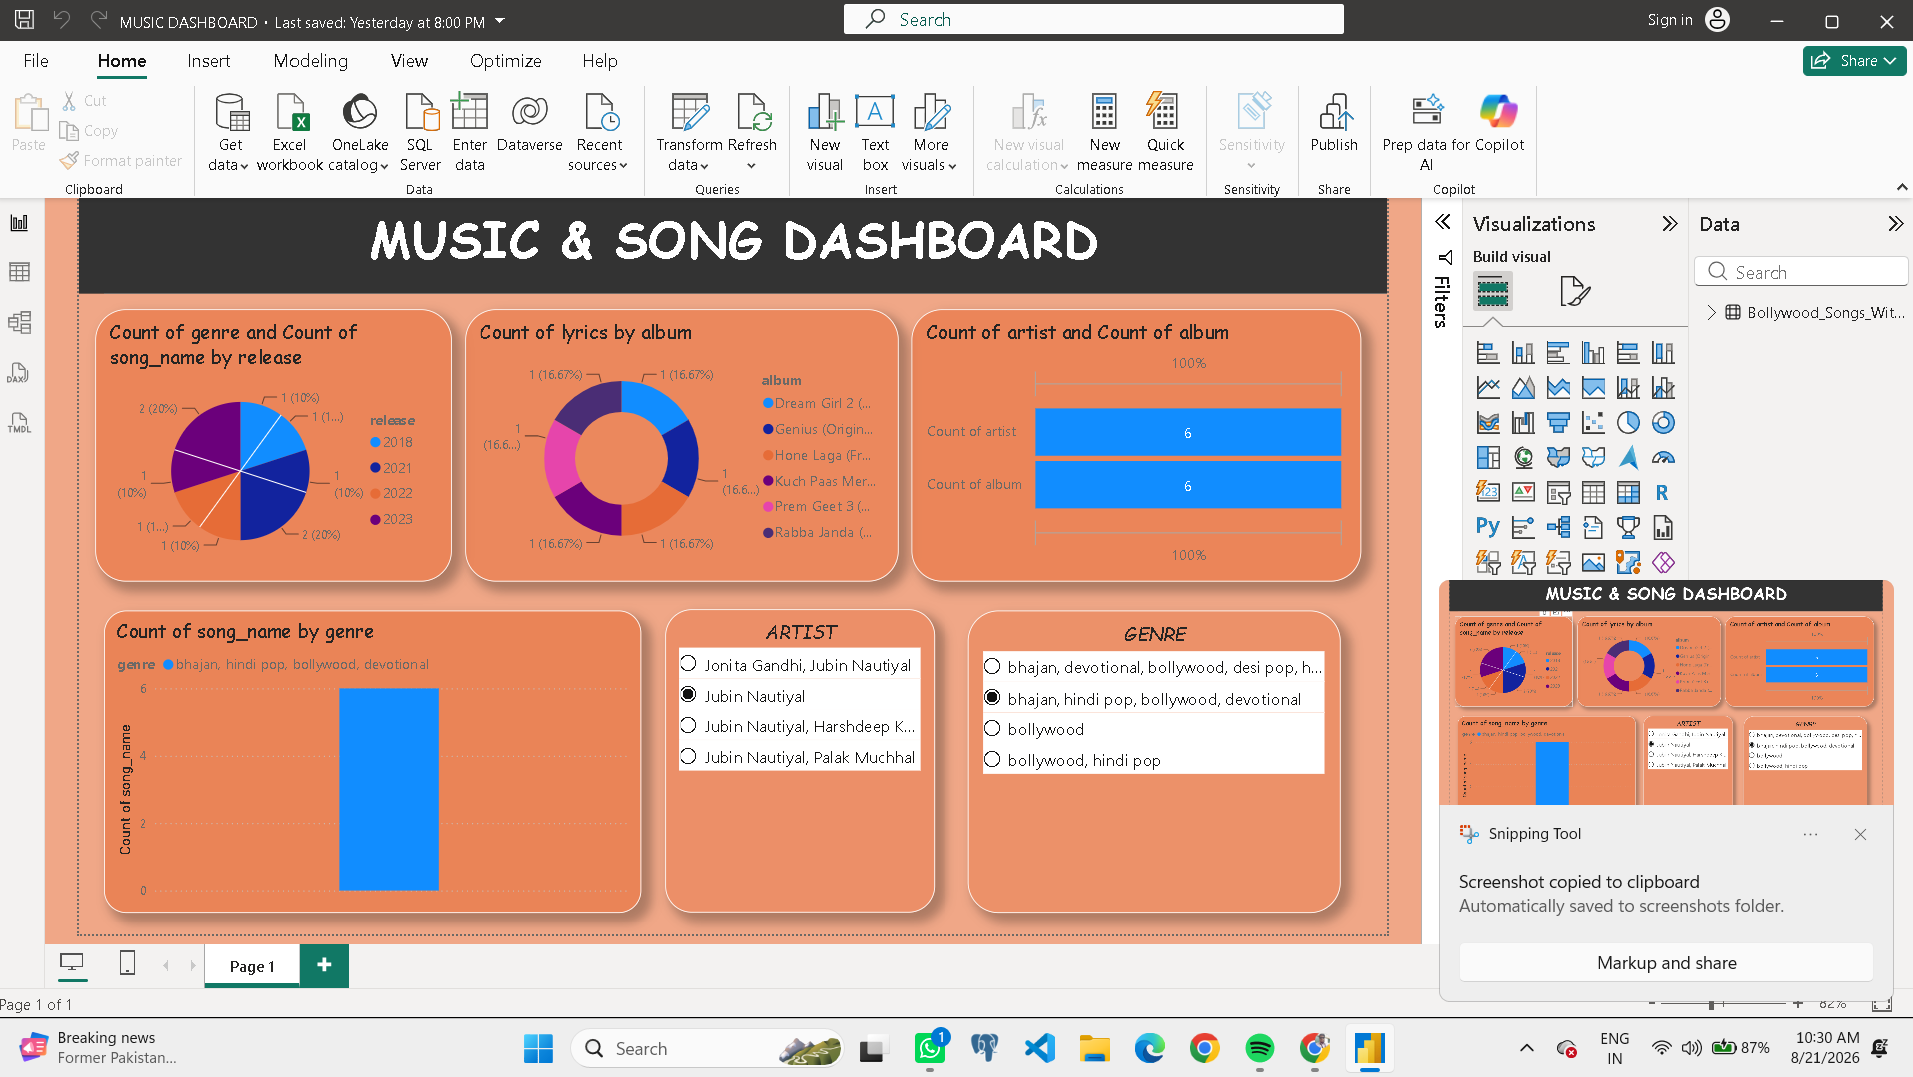

The dashboard page shown, as its layout file describes it:
{"tool":"powerbi","page":{"name":"Page 1","canvas":[1280,720],"ordinal":0},"visuals":[{"type":"pieChart","fields":{"Y":["Count(Bollywood_Songs_With_Album_Genre.genre)","CountNonNull(Bollywood_Songs_With_Album_Genre.song_name)"],"Category":["Bollywood_Songs_With_Album_Genre.release"]},"box":[15.9,108.8,348.5,266.6],"z":0},{"type":"textbox","box":[24.7,0,1255.6,93.3],"z":1000},{"type":"donutChart","fields":{"Category":["Bollywood_Songs_With_Album_Genre.album"],"Y":["CountNonNull(Bollywood_Songs_With_Album_Genre.lyrics)"]},"box":[377.9,108.8,424.3,266.6],"z":2000},{"type":"clusteredColumnChart","fields":{"Series":["Bollywood_Songs_With_Album_Genre.genre"],"Y":["CountNonNull(Bollywood_Songs_With_Album_Genre.song_name)"]},"box":[24.5,403.5,525.8,295.9],"z":3000},{"type":"textbox","box":[0,0,1280.3,93.3],"z":4000},{"type":"funnel","fields":{"Y":["CountNonNull(Bollywood_Songs_With_Album_Genre.artist)","CountNonNull(Bollywood_Songs_With_Album_Genre.album)"]},"box":[814.4,108.8,440.2,266.6],"z":5000},{"type":"listSlicer","title":"ARTIST","fields":{"Values":["Bollywood_Songs_With_Album_Genre.artist"]},"box":[573.5,402.3,264.1,297.1],"z":6000},{"type":"listSlicer","title":"GENRE","fields":{"Values":["Bollywood_Songs_With_Album_Genre.genre"]},"box":[869.4,403.5,364.4,295.9],"z":7000}]}

Visuals, with their boxes on the page's 1280x720 design canvas (x1, y1, x2, y2). These are canvas units, not pixel positions in the 1913x1077 screenshot, which may show the page scaled, cropped or inside an application window:
pieChart - Count(Bollywood_Songs_With_Album_Genre.genre) x CountNonNull(Bollywood_Songs_With_Album_Genre.song_name): bbox=[16, 109, 364, 375]
textbox: bbox=[25, 0, 1280, 93]
donutChart - Bollywood_Songs_With_Album_Genre.album x CountNonNull(Bollywood_Songs_With_Album_Genre.lyrics): bbox=[378, 109, 802, 375]
clusteredColumnChart - Bollywood_Songs_With_Album_Genre.genre x CountNonNull(Bollywood_Songs_With_Album_Genre.song_name): bbox=[24, 404, 550, 699]
textbox: bbox=[0, 0, 1280, 93]
funnel - CountNonNull(Bollywood_Songs_With_Album_Genre.artist) x CountNonNull(Bollywood_Songs_With_Album_Genre.album): bbox=[814, 109, 1255, 375]
"ARTIST" listSlicer: bbox=[574, 402, 838, 699]
"GENRE" listSlicer: bbox=[869, 404, 1234, 699]
